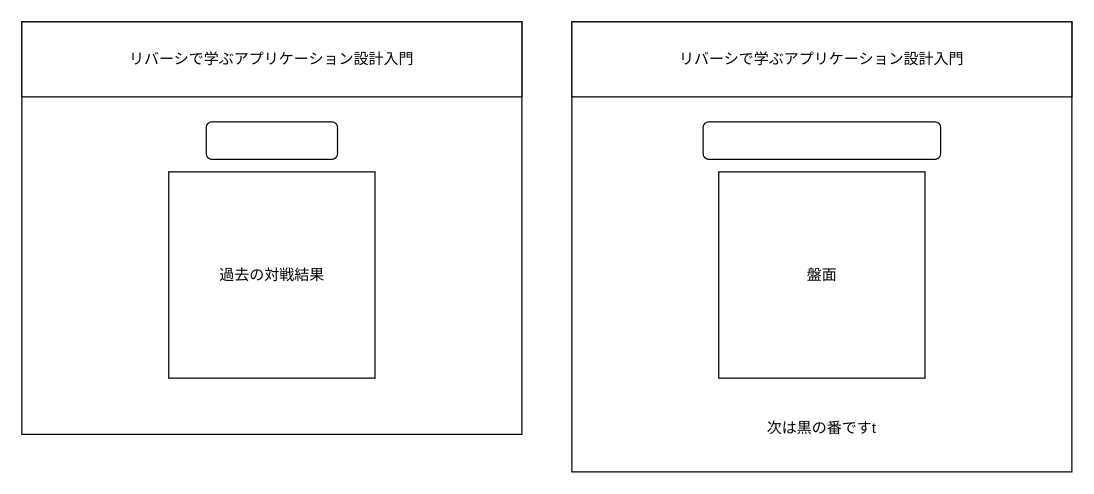
The diagram is 1094 pixels wide and 494 high, and some of its shapes have lost their labels. Here are the shapes that lost their labels. From the top down, the centre of each, then its label:
At (x=271, y=140): "対戦する".
At (x=821, y=140): "白の番はスキップです".
